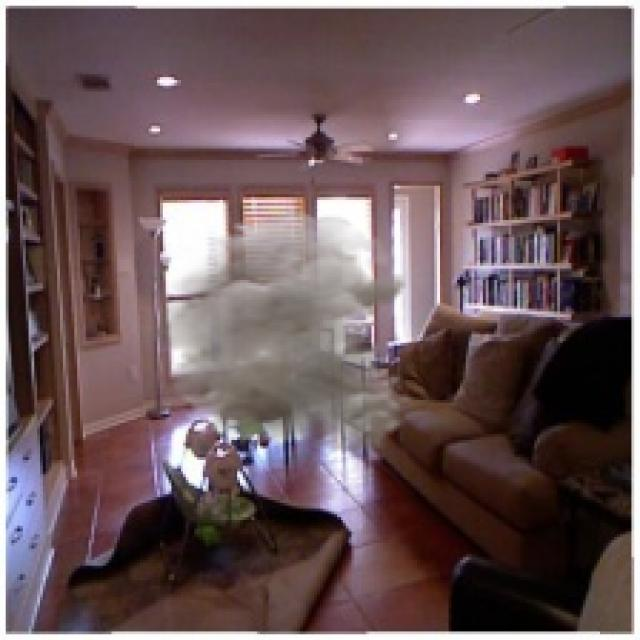smoke: (137, 212, 414, 454)
